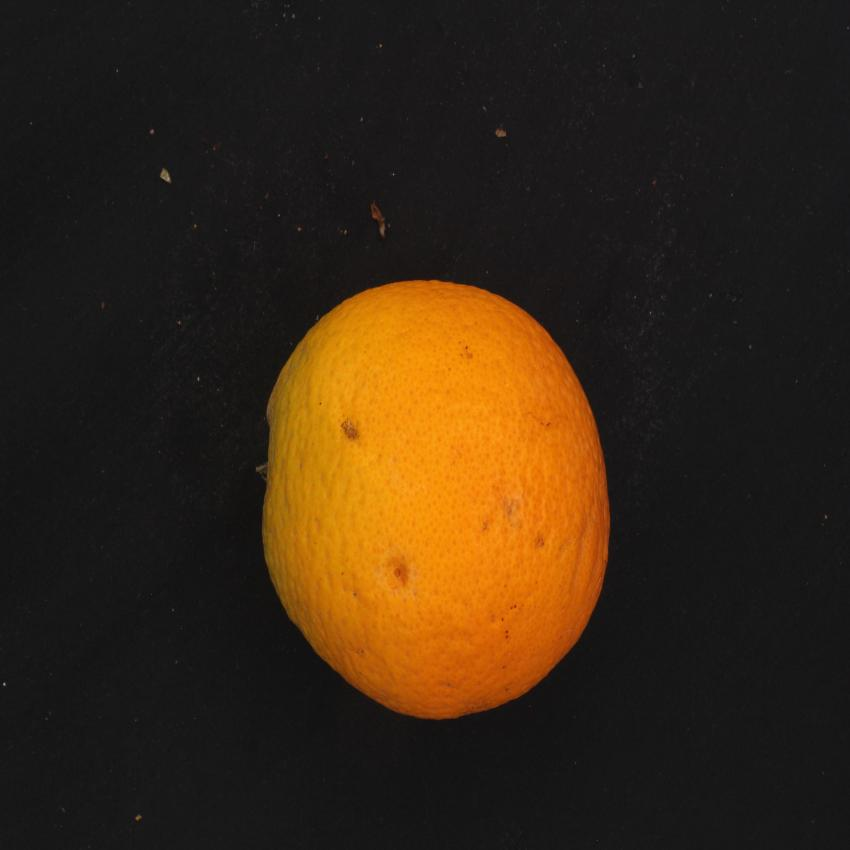Buen estado: (260, 273, 617, 732)
